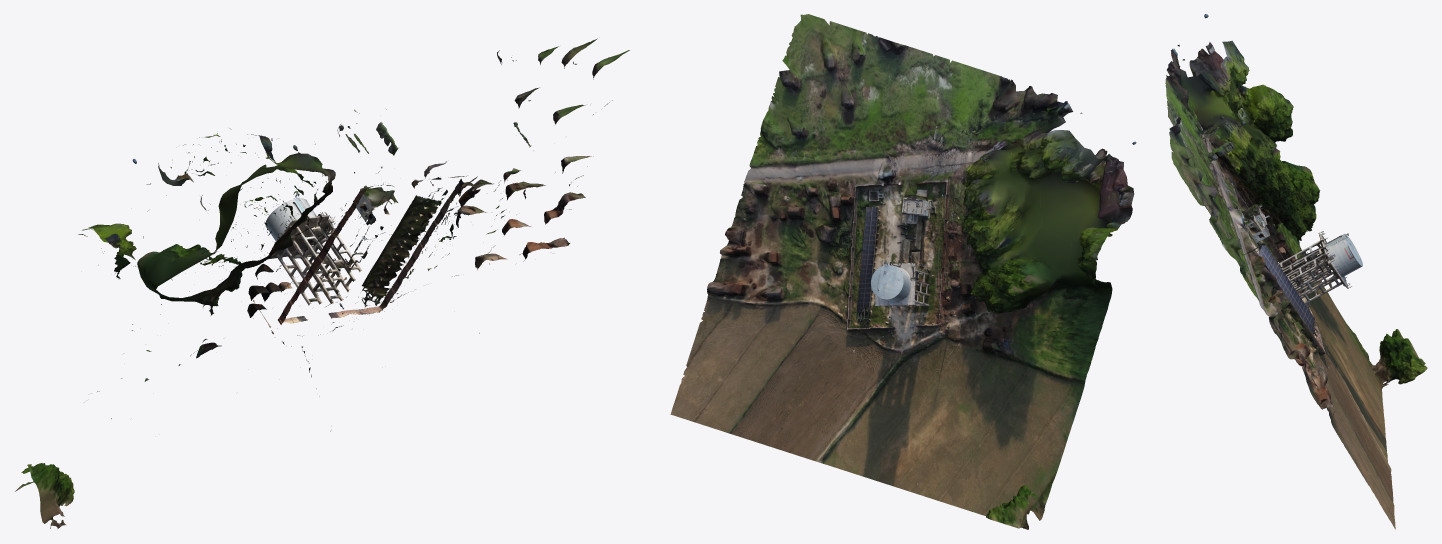
3 views of the same model, side by side, from view 1: azimuth 30°, elevation 25°; view 2: azimuth 150°, elevation 25°; view 3: azimuth 270°, elevation 25° (orthographic). The views are drawn at different scales.
Bounding box in the file's own units: 60.21 × 55.18 × 33.59.
Materials: 1 (1 with a texture image).
